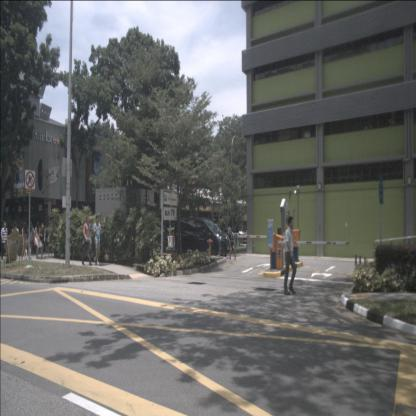human-pedestrian-adult: (283, 216, 297, 296), (82, 215, 93, 266), (92, 215, 102, 265), (21, 222, 29, 261), (27, 222, 35, 260), (34, 222, 42, 259), (12, 222, 19, 261), (1, 222, 8, 260), (39, 222, 46, 259), (227, 223, 234, 251), (229, 230, 234, 251)
vehicle-car: (175, 217, 231, 257)
